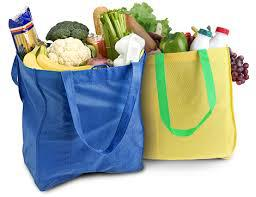Plastic: (4, 8, 145, 191), (138, 45, 240, 165)
